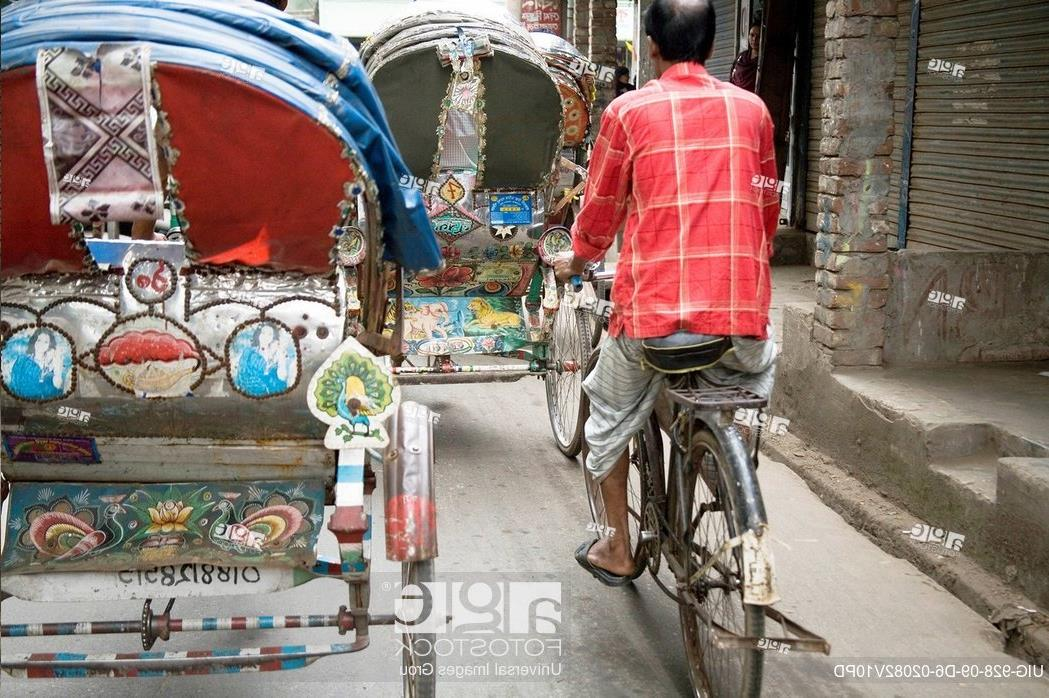Rickshaw: (5, 1, 438, 678), (368, 21, 606, 459), (536, 20, 598, 227)
